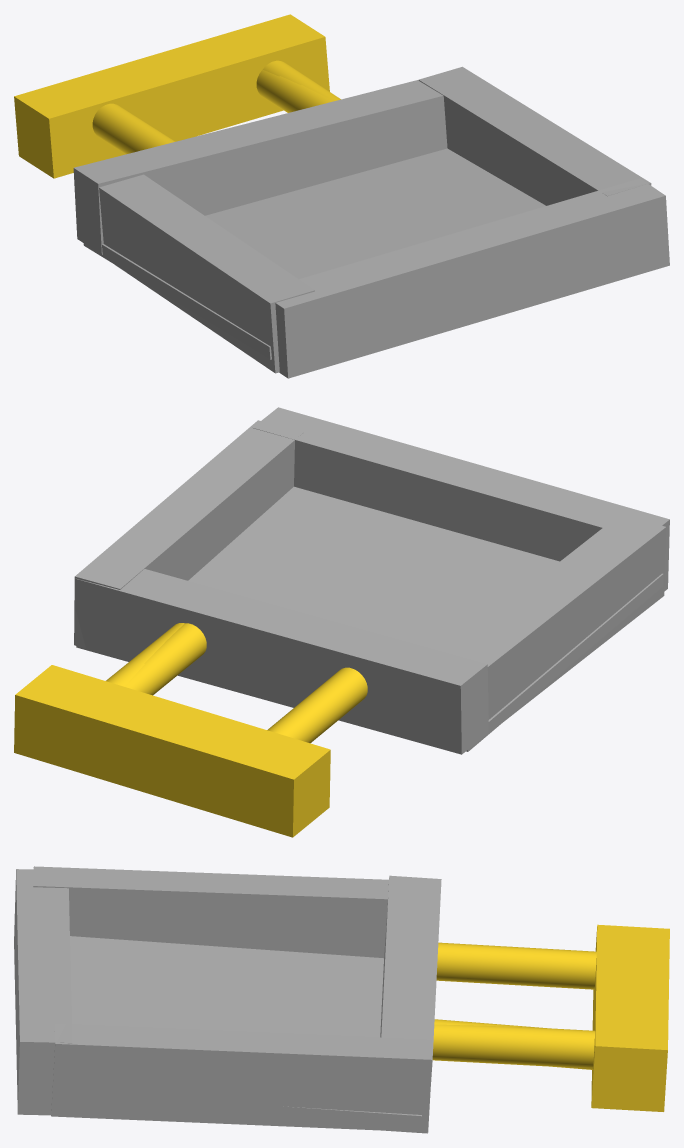
The model's file is lazer hologram puzzle lock drawer when puzzle is solved.fbx.
3 views of the same model, one above another, from view 1: azimuth 30°, elevation 25°; view 2: azimuth 150°, elevation 25°; view 3: azimuth 270°, elevation 25° (orthographic). The views are drawn at different scales.
Visible parts, largest first — view 1: 886f6625-e5ba-4bba-b7f8-7bea2055ed2d; view 2: 886f6625-e5ba-4bba-b7f8-7bea2055ed2d; view 3: 886f6625-e5ba-4bba-b7f8-7bea2055ed2d.
Part boxes in pixels (left/top/right/bottom): 886f6625-e5ba-4bba-b7f8-7bea2055ed2d: left=14, top=14, right=669, bottom=378; 886f6625-e5ba-4bba-b7f8-7bea2055ed2d: left=14, top=407, right=669, bottom=837; 886f6625-e5ba-4bba-b7f8-7bea2055ed2d: left=14, top=866, right=669, bottom=1133.
Bounding box in the file's own units: 15545 × 4199 × 21944.
